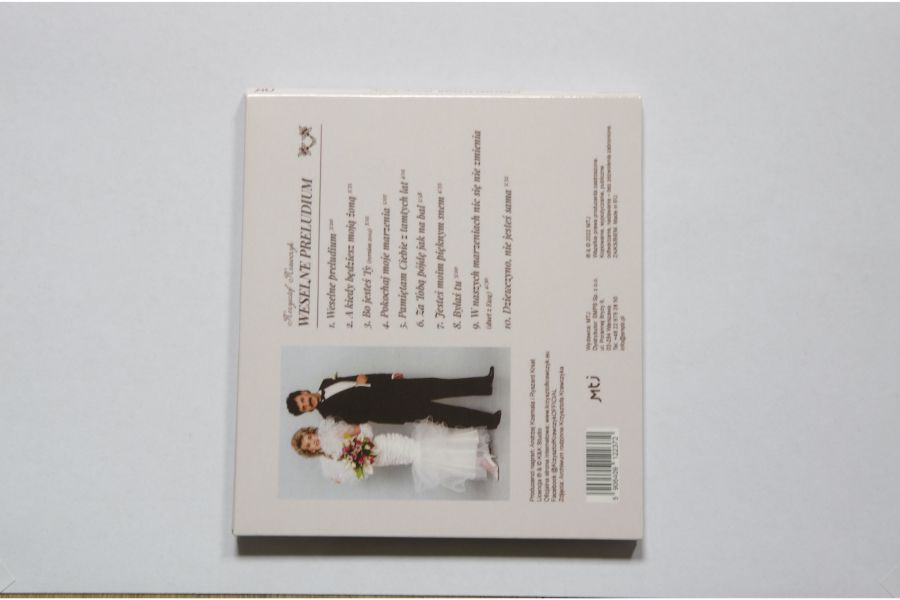album: (231, 89, 646, 539)
